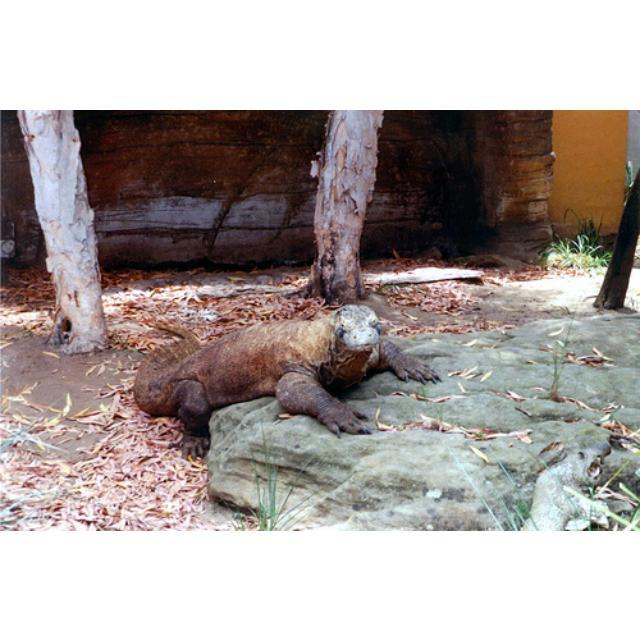KomodoDragon: (131, 299, 440, 460)
